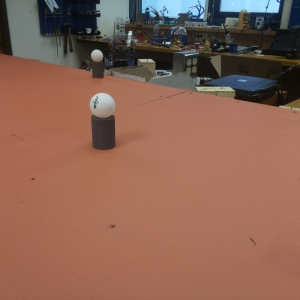obstacle: (92, 91, 115, 151), (90, 49, 104, 80)
